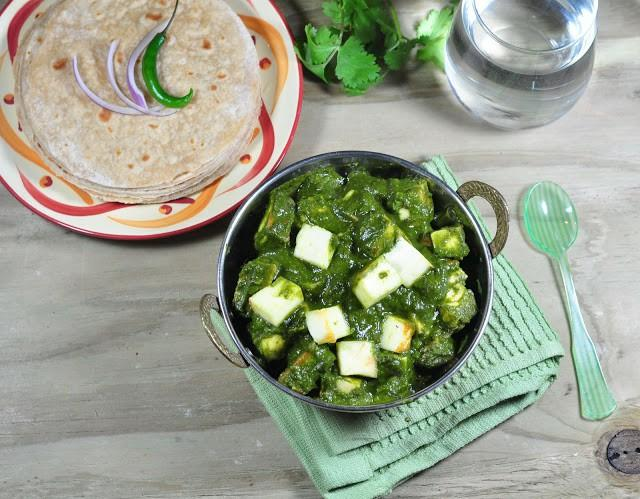PalakPaneer: (235, 168, 479, 405)
